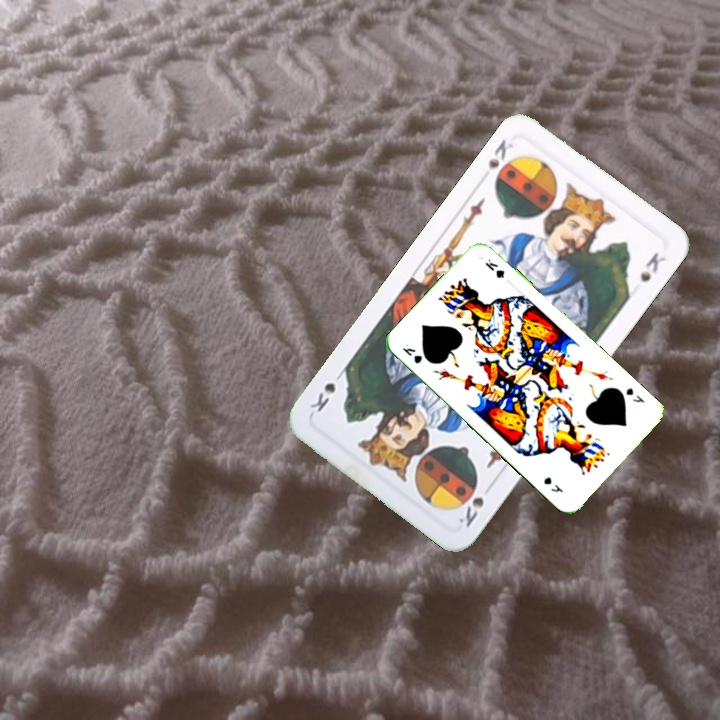GK: (398, 339, 425, 366), (622, 384, 647, 405)
SK: (454, 493, 487, 530), (484, 135, 516, 171)
